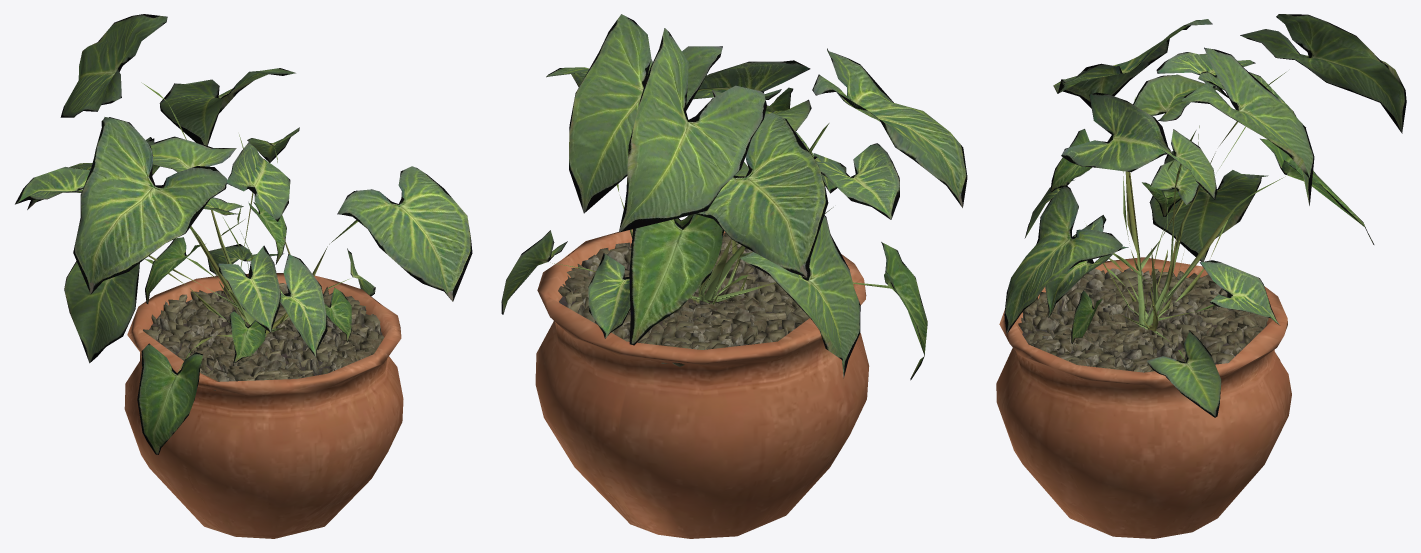
The model's file is alocasia.glb.
The picture shows the model from 3 angles, left to right: view 1: azimuth 30°, elevation 25°; view 2: azimuth 150°, elevation 25°; view 3: azimuth 270°, elevation 25°; orthographic projection. The views are drawn at different scales.
Parts seen in each view (by area): view 1: potted_plant_02_leaves, potted_plant_02_pot, potted_plant_02_dirt; view 2: potted_plant_02_leaves, potted_plant_02_pot, potted_plant_02_dirt; view 3: potted_plant_02_leaves, potted_plant_02_pot, potted_plant_02_dirt.
Boxes of the visible parts, x1,y1,x2,y2 form: potted_plant_02_leaves: [15, 14, 472, 454]; potted_plant_02_pot: [124, 273, 403, 538]; potted_plant_02_dirt: [143, 283, 384, 390]; potted_plant_02_leaves: [501, 14, 967, 380]; potted_plant_02_pot: [535, 229, 869, 538]; potted_plant_02_dirt: [558, 232, 809, 366]; potted_plant_02_leaves: [1004, 14, 1406, 417]; potted_plant_02_pot: [996, 257, 1291, 538]; potted_plant_02_dirt: [1018, 268, 1268, 372].
Size of the model in its own units: 0.8349 by 1 by 0.7815.
2 materials, 2 textured.
